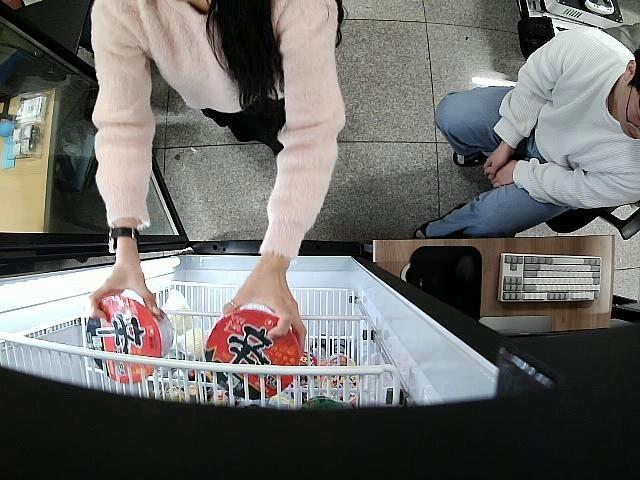01_ShinRamen_L: (204, 308, 300, 402), (84, 292, 174, 384)
